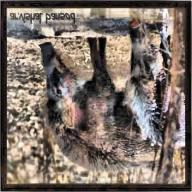boar: (34, 28, 141, 170), (115, 15, 192, 153)
